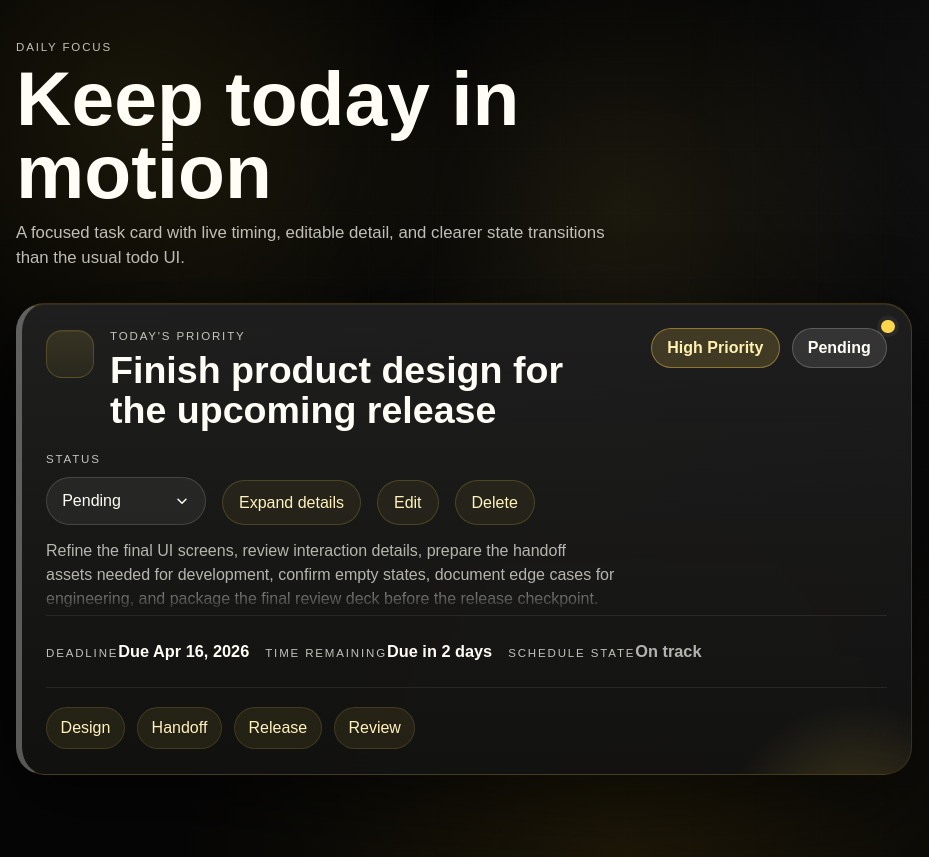
Test: Todo card › renders required Stage 0 and Stage 1 hooks and keeps collapse accessible
Expected: the element with test id "test-todo-card" is shown, top-left (16, 303), bottom-right (912, 775)
Expected: the heading "Finish product design for the upcoming release" is shown, top-left (110, 350), bottom-right (570, 431)
Click the button with test id "test-todo-expand-toggle": click(292, 503) top-left (222, 480), bottom-right (361, 525)
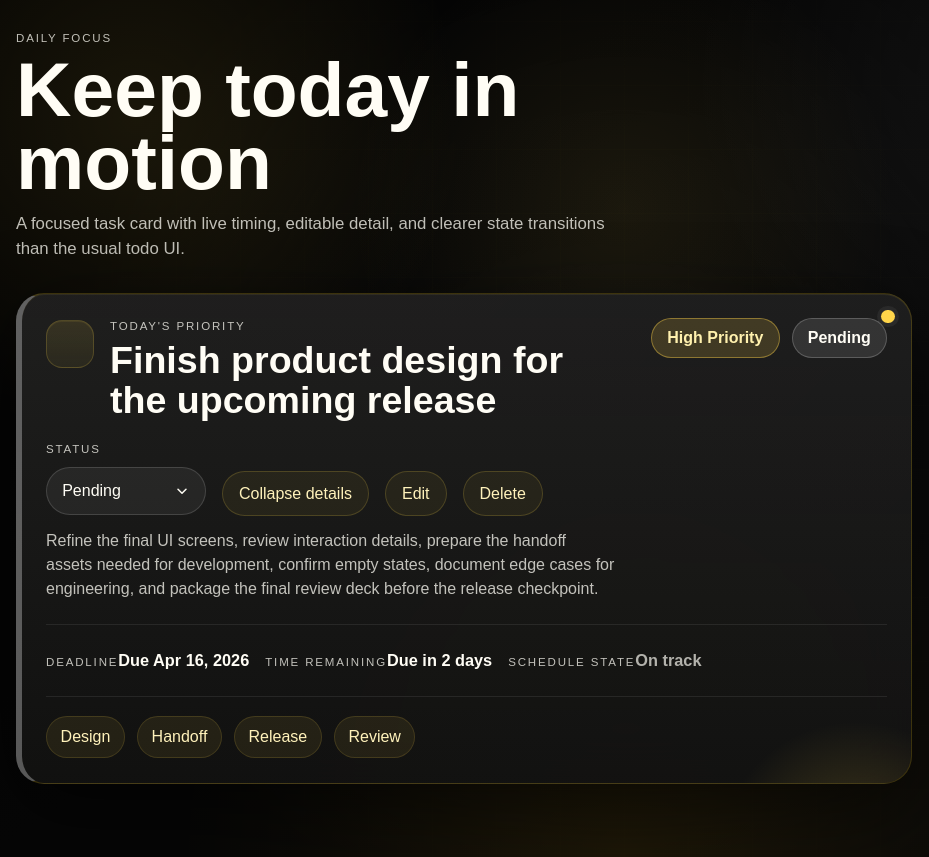
Now the button with test id "test-todo-expand-toggle" is expanded, box top-left (222, 471), bottom-right (369, 516)
